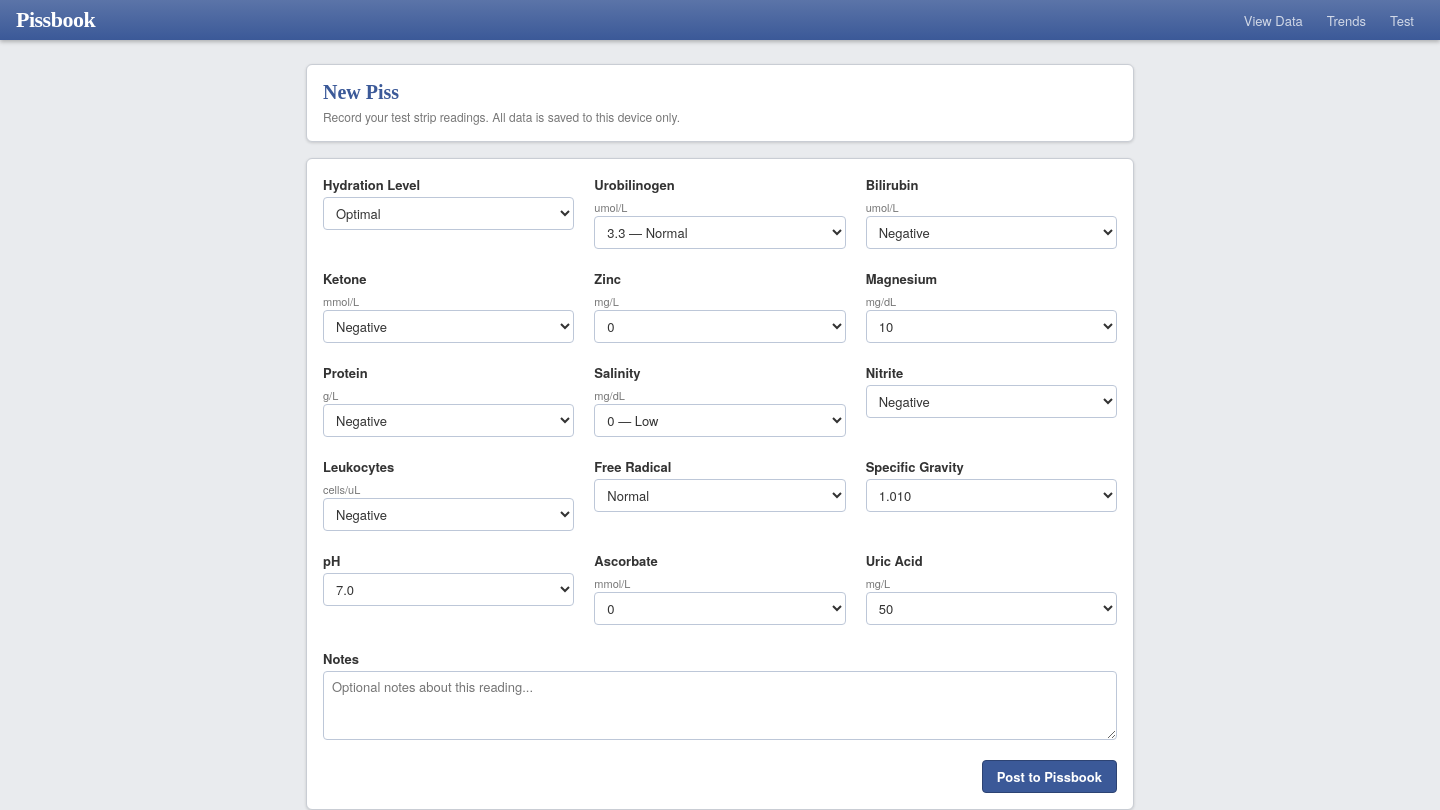
NewEntryPage › shows a success confirmation after submit
Click the button "Post to Pissbook" at [1049, 776], box [982,760,1117,793]
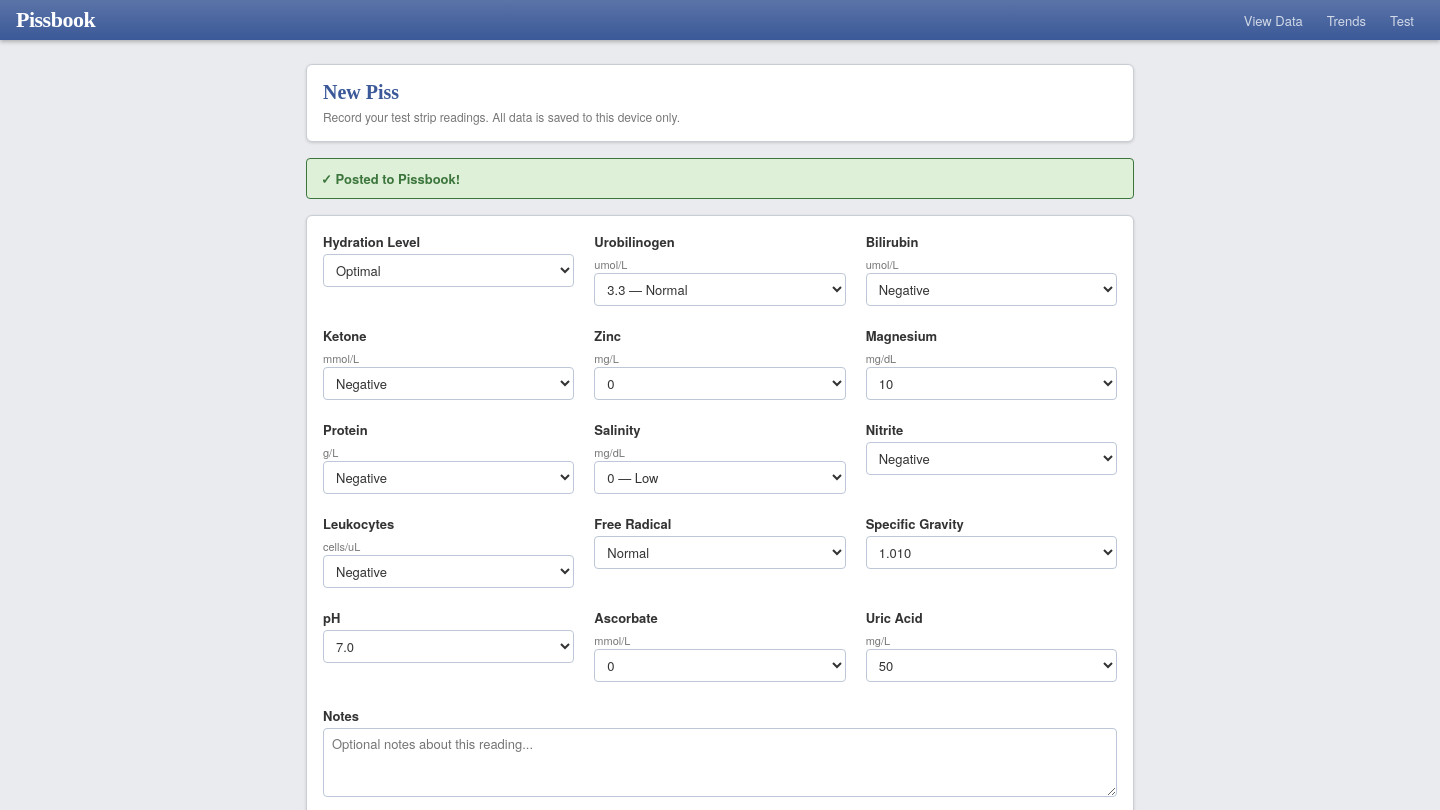
Expected: the text "✓ Posted to Pissbook!" is shown, [306,158,1134,199]
